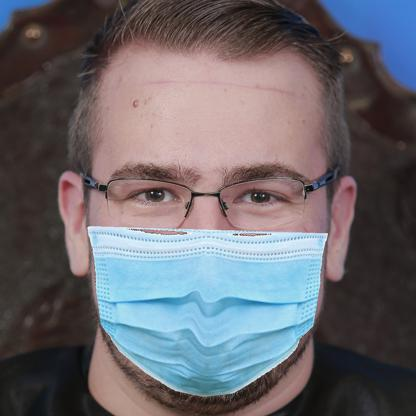mask: (83, 223, 330, 396)
